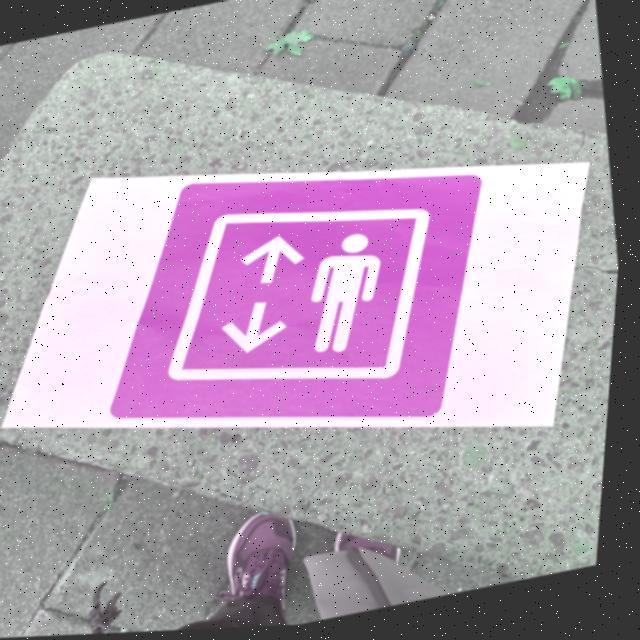elevator: (104, 174, 483, 417)
